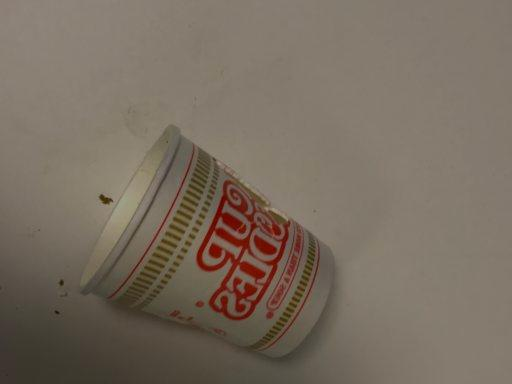trash: (79, 122, 332, 359)
